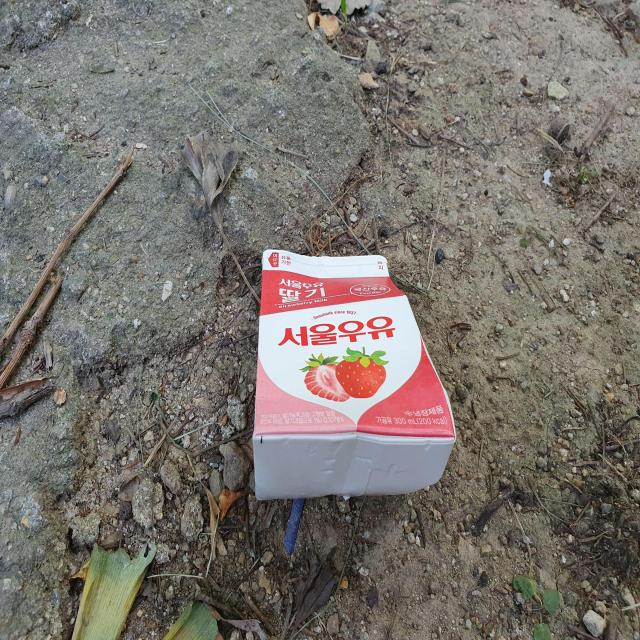paperpack: (253, 249, 456, 500)
